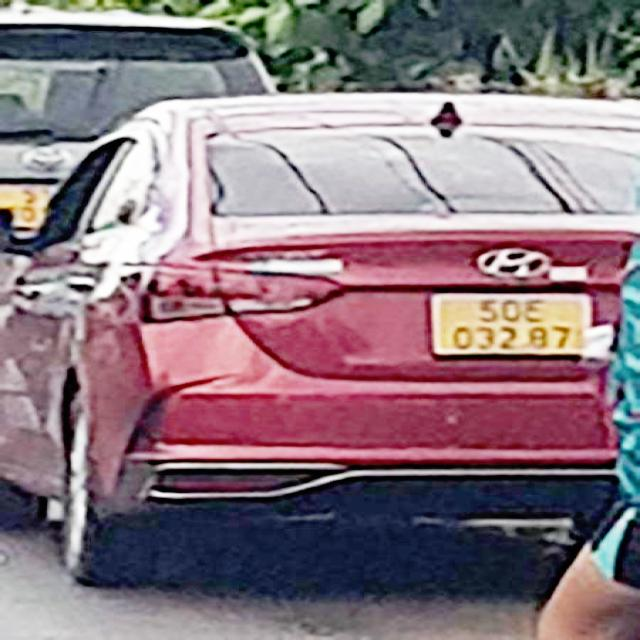license_plate: (431, 292, 588, 357)
